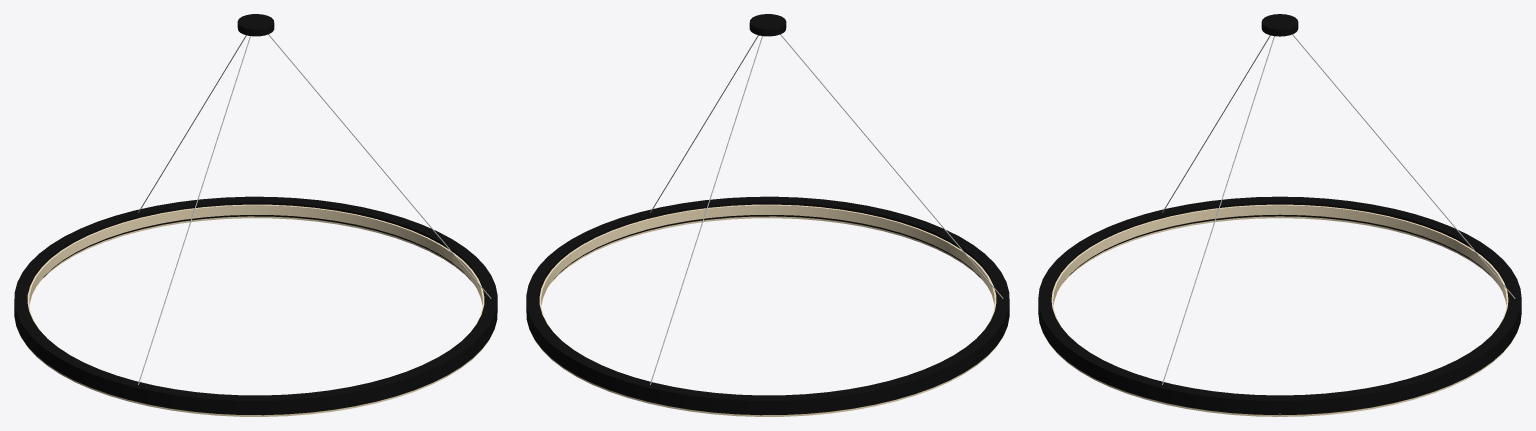
Rendered from furniture.light.ring_pendant.glb.
The picture shows the model from 3 angles, left to right: view 1: azimuth 30°, elevation 25°; view 2: azimuth 150°, elevation 25°; view 3: azimuth 270°, elevation 25°; orthographic projection.
Parts seen in each view (by area): view 1: ring__plastic_black, ring__glow, fixings__steel_stainless, fixings__plastic_black; view 2: ring__plastic_black, ring__glow, fixings__steel_stainless, fixings__plastic_black; view 3: ring__plastic_black, ring__glow, fixings__steel_stainless, fixings__plastic_black.
Boxes of the visible parts, x1=… form: ring__plastic_black: x1=14, y1=196, x2=497, y2=415; ring__glow: x1=22, y1=204, x2=488, y2=416; fixings__steel_stainless: x1=138, y1=34, x2=491, y2=384; fixings__plastic_black: x1=237, y1=14, x2=274, y2=36; ring__plastic_black: x1=526, y1=196, x2=1009, y2=415; ring__glow: x1=535, y1=204, x2=1001, y2=416; fixings__steel_stainless: x1=650, y1=34, x2=1003, y2=384; fixings__plastic_black: x1=749, y1=14, x2=786, y2=36; ring__plastic_black: x1=1038, y1=196, x2=1521, y2=415; ring__glow: x1=1049, y1=204, x2=1510, y2=416; fixings__steel_stainless: x1=1162, y1=34, x2=1515, y2=384; fixings__plastic_black: x1=1261, y1=14, x2=1298, y2=36.
Bounding box in the file's own units: 1.85 × 1.24 × 1.85.
